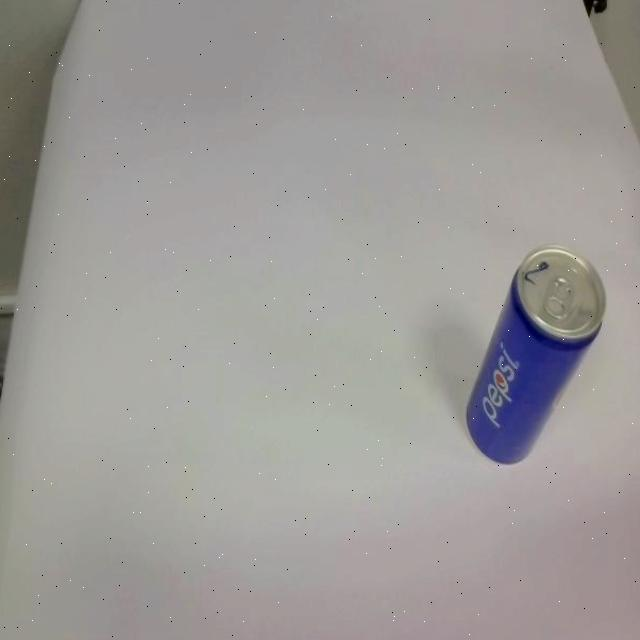debris: (466, 244, 607, 466)
